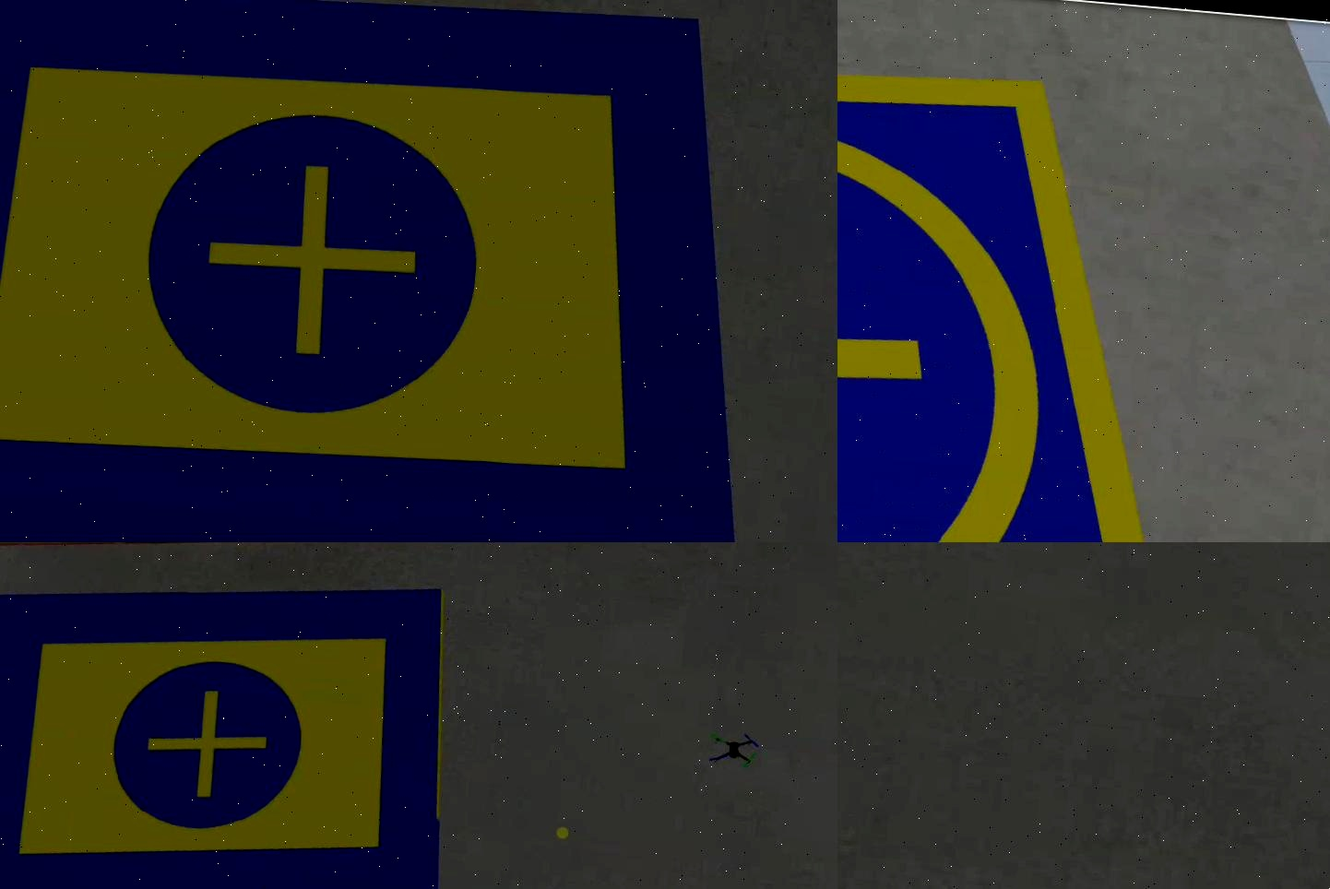large_base: (1, 1, 790, 542), (1, 547, 466, 889)
small_base: (838, 19, 1260, 542)
